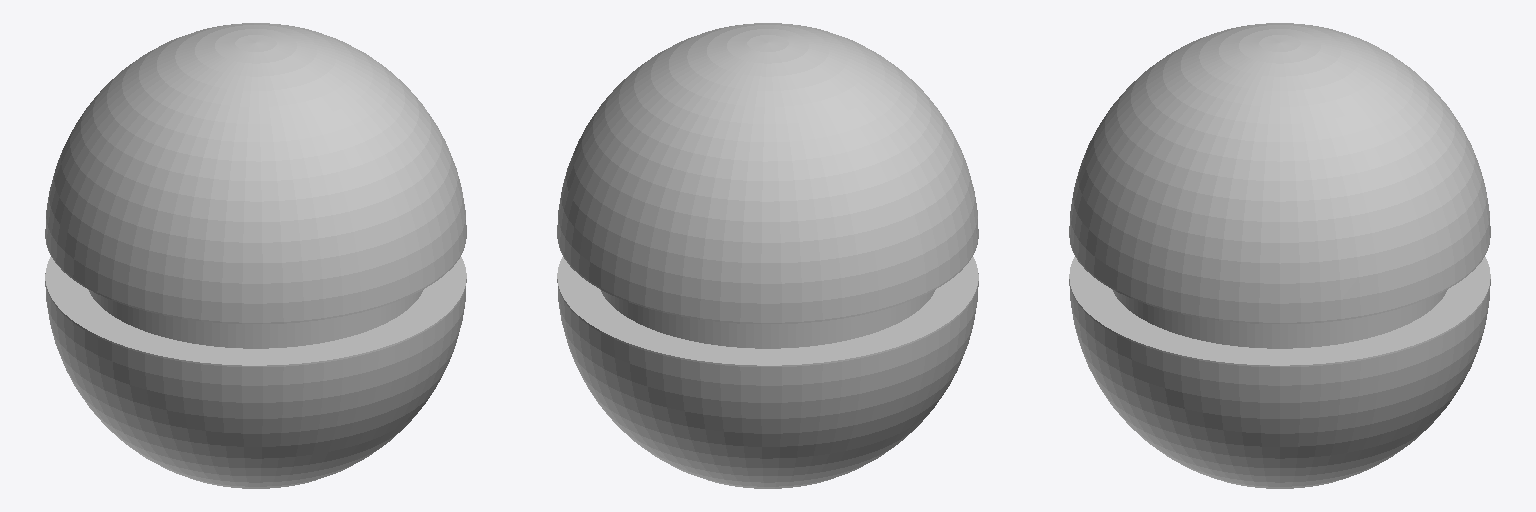
File: droid_anim_000010.obj
3 views of the same model, side by side, from view 1: azimuth 30°, elevation 25°; view 2: azimuth 150°, elevation 25°; view 3: azimuth 270°, elevation 25° (orthographic).
Parts seen in each view (by area): view 1: Sphere.004, Sphere.005, Cylinder.002; view 2: Sphere.004, Sphere.005, Cylinder.002; view 3: Sphere.004, Sphere.005, Cylinder.002.
Boxes of the visible parts, <box> form: Sphere.004: <box>45,23,466,323</box>; Sphere.005: <box>45,257,466,488</box>; Cylinder.002: <box>88,289,423,348</box>; Sphere.004: <box>557,23,978,323</box>; Sphere.005: <box>557,257,978,488</box>; Cylinder.002: <box>600,289,935,348</box>; Sphere.004: <box>1069,23,1490,323</box>; Sphere.005: <box>1069,257,1490,488</box>; Cylinder.002: <box>1112,289,1447,348</box>.
Bounding box in the file's own units: 2 × 2.23 × 2.